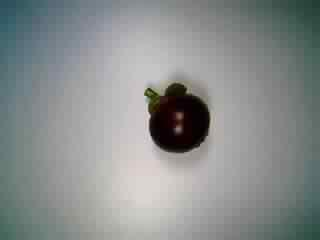mangosteen: (127, 79, 215, 165)
